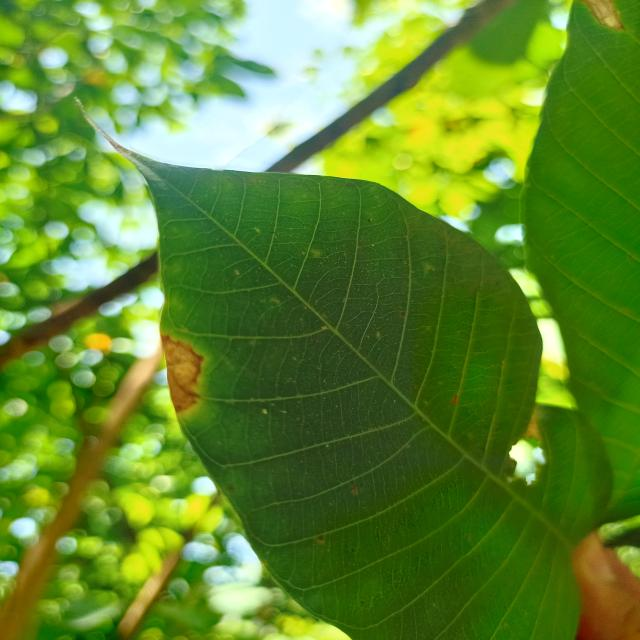Leaf-Blight: (160, 335, 204, 415), (580, 0, 622, 31)
